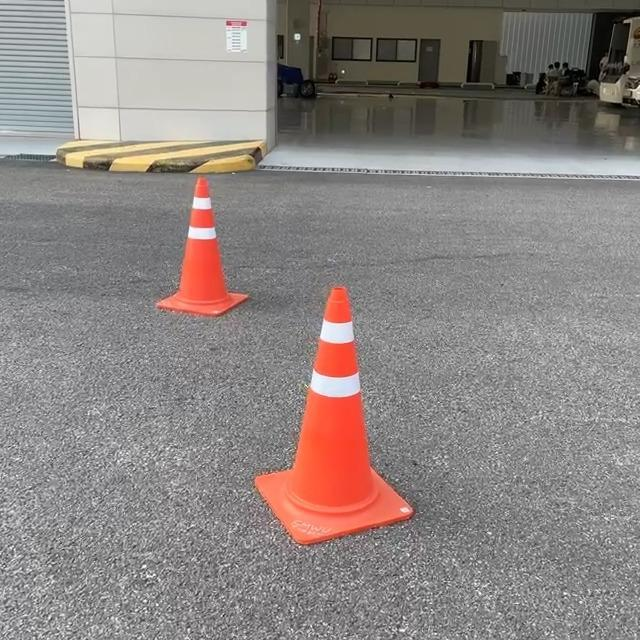fallen_object: (276, 273, 390, 562), (137, 162, 252, 331)
